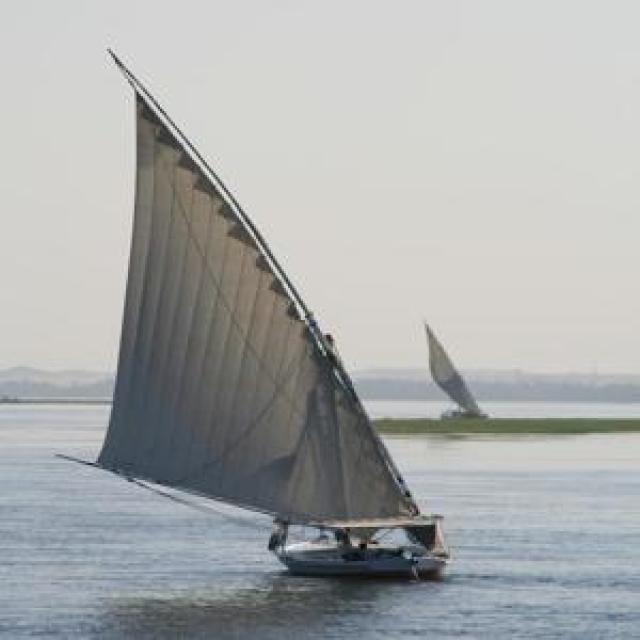sailboat: (76, 42, 456, 583), (410, 310, 510, 425)
